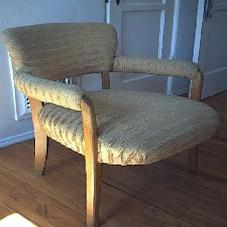chair: (3, 17, 221, 222)
